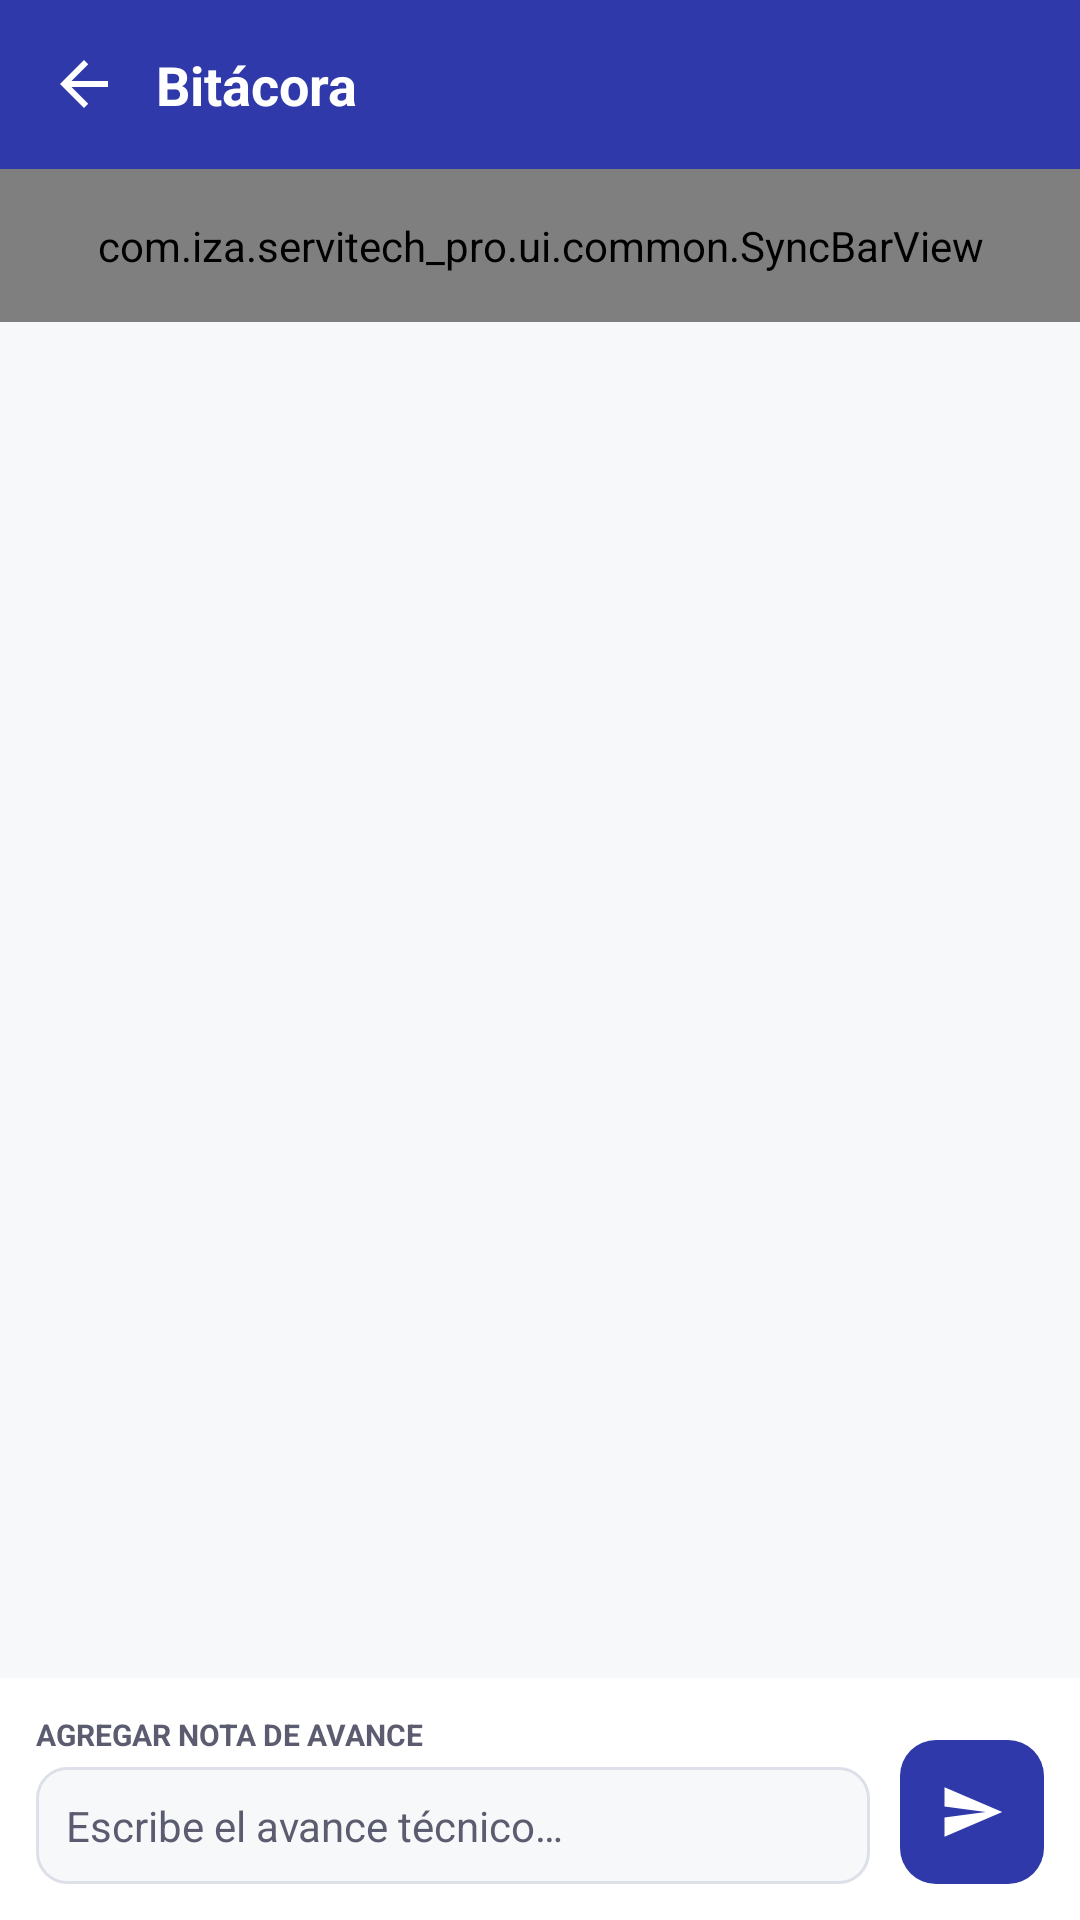

Named icons in this screenshot (1080×1920) and their bounding boxes, (x1=x1, y1=y1, x2=x2, y2=y2):
Enviar nota: (x1=900, y1=1740, x2=1044, y2=1884)
Volver: (x1=60, y1=60, x2=108, y2=108)
